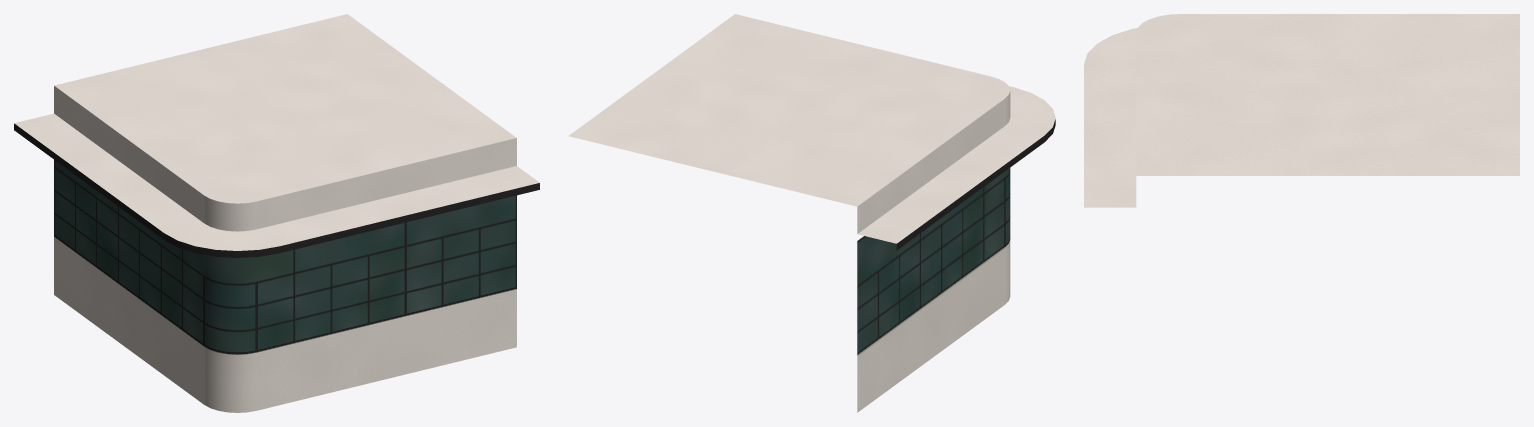
The model's file is corner.gltf.
3 renders of one model, left to right at view 1: azimuth 30°, elevation 25°; view 2: azimuth 150°, elevation 25°; view 3: azimuth 270°, elevation 25°, orthographic. The views are drawn at different scales.
Parts seen in each view (by area): view 1: corner; view 2: corner; view 3: corner.
Boxes of the visible parts, x1,y1,x2,y2 form: corner: (14, 14, 539, 412); corner: (568, 14, 1055, 412); corner: (1084, 14, 1519, 207).
Size of the model in its own units: 5 by 3 by 5.
Materials: 3 (2 with a texture image).
